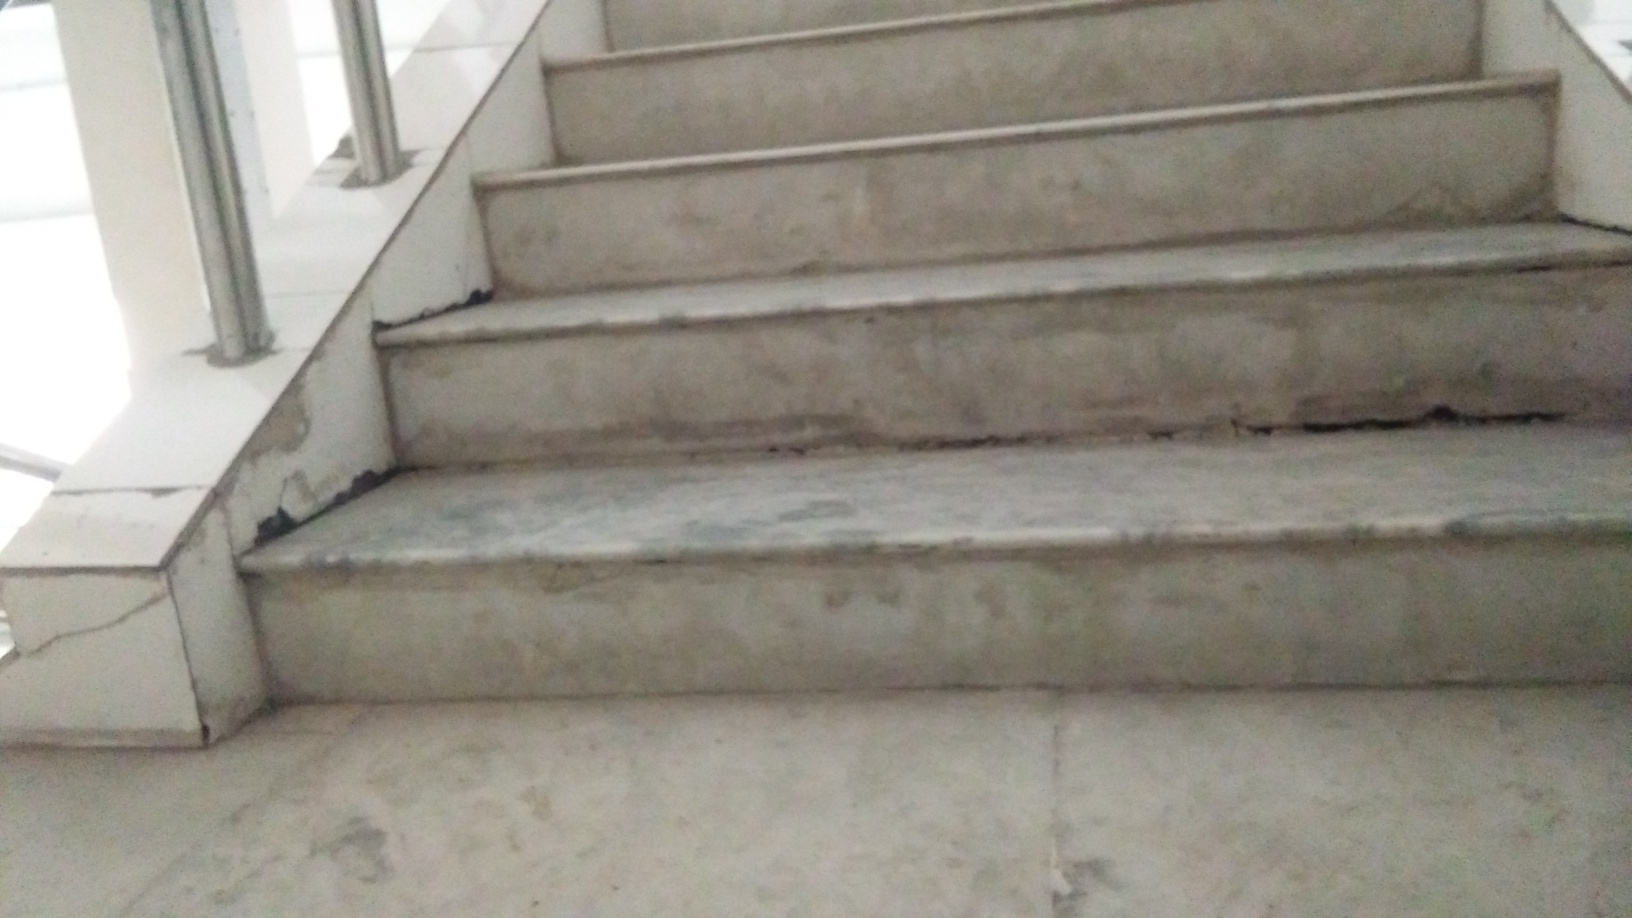stairs_up: (268, 4, 1612, 680)
